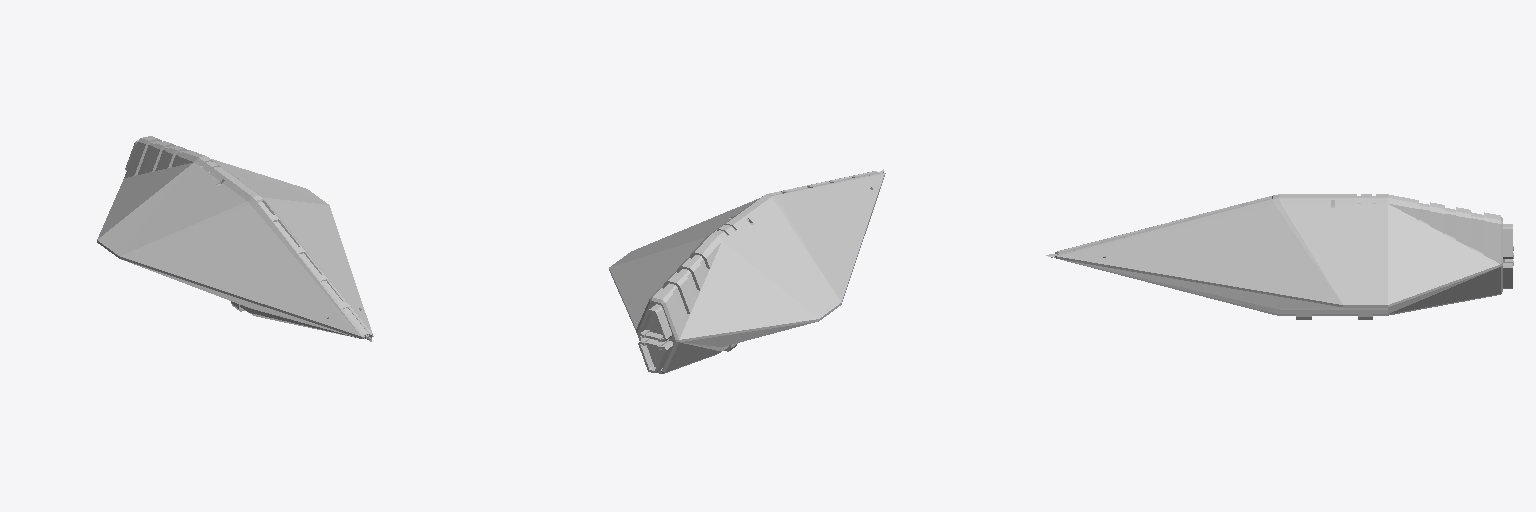
Rendered from python.obj.
3 views of the same model, side by side, from view 1: azimuth 30°, elevation 25°; view 2: azimuth 150°, elevation 25°; view 3: azimuth 270°, elevation 25° (orthographic).
Parts seen in each view (by area): view 1: pyth.obj; view 2: pyth.obj; view 3: pyth.obj.
Part boxes in pixels (bbox=[...]): pyth.obj: bbox=[97, 136, 373, 341]; pyth.obj: bbox=[609, 169, 885, 373]; pyth.obj: bbox=[1046, 194, 1513, 319].
Size of the model in its own units: 8.77 by 4.78 by 16.93.